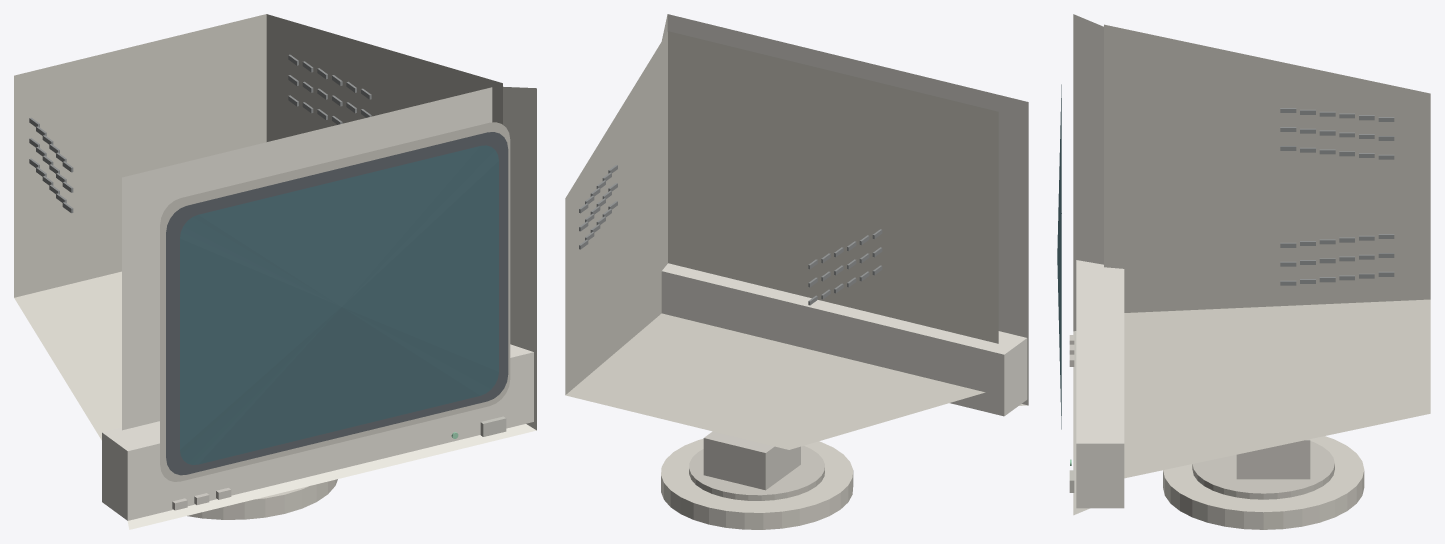
File: monitor_crt.glb
3 views of the same model, side by side, from view 1: azimuth 30°, elevation 25°; view 2: azimuth 150°, elevation 25°; view 3: azimuth 270°, elevation 25° (orthographic). The views are drawn at different scales.
Parts seen in each view (by area): view 1: M15_CRTGlass_SeparateMaterial_006, M15_TaperedRearHousing_001, M15_FrontCase_002, M15_BottomChin_003, M15_BlackGlassBorder_005, M15_InnerBezel_004, M15_SwivelStandDisc_008; view 2: M15_TaperedRearHousing_001, M15_BottomChin_003, M15_FrontCase_002, M15_SwivelStandDisc_008, M15_PedestalNeck_007, M15_SwivelStandDiscTop_009; view 3: M15_TaperedRearHousing_001, M15_BottomChin_003, M15_FrontCase_002, M15_SwivelStandDisc_008, M15_SwivelStandDiscTop_009, M15_PedestalNeck_007, M15_CRTGlass_SeparateMaterial_006.
Boxes of the visible parts, x1,y1,x2,y2 form: M15_CRTGlass_SeparateMaterial_006: (180, 145, 498, 464); M15_TaperedRearHousing_001: (14, 14, 502, 440); M15_FrontCase_002: (122, 86, 536, 529); M15_BottomChin_003: (102, 344, 533, 520); M15_BlackGlassBorder_005: (166, 132, 508, 475); M15_InnerBezel_004: (160, 122, 510, 481); M15_SwivelStandDisc_008: (187, 479, 337, 519); M15_TaperedRearHousing_001: (565, 31, 998, 449); M15_BottomChin_003: (661, 263, 1027, 416); M15_FrontCase_002: (662, 14, 1028, 405); M15_SwivelStandDisc_008: (661, 438, 853, 529); M15_PedestalNeck_007: (703, 431, 800, 490); M15_SwivelStandDiscTop_009: (689, 446, 824, 500); M15_TaperedRearHousing_001: (1104, 24, 1430, 478); M15_BottomChin_003: (1076, 260, 1124, 508); M15_FrontCase_002: (1073, 14, 1103, 515); M15_SwivelStandDisc_008: (1163, 436, 1364, 529); M15_SwivelStandDiscTop_009: (1192, 441, 1334, 499); M15_PedestalNeck_007: (1236, 439, 1310, 479); M15_CRTGlass_SeparateMaterial_006: (1057, 84, 1061, 429).
Bounding box in the file's own units: 0.355 × 0.3425 × 0.304.
